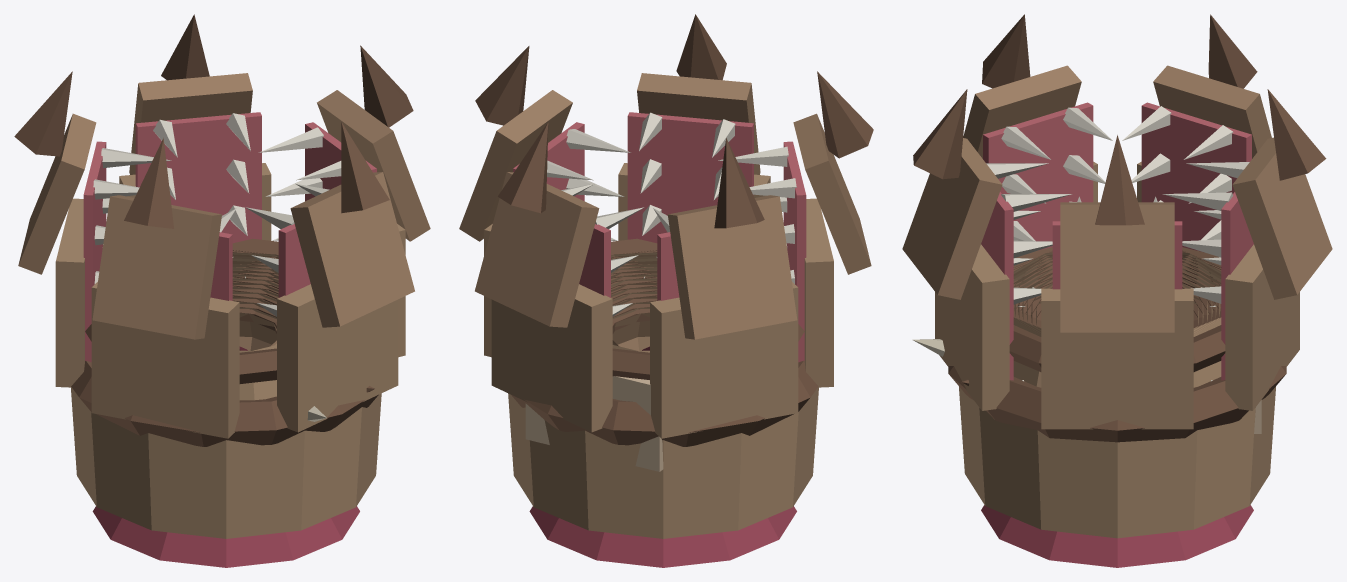
File: verme_gigante.glb
3 views of the same model, side by side, from view 1: azimuth 30°, elevation 25°; view 2: azimuth 150°, elevation 25°; view 3: azimuth 270°, elevation 25° (orthographic). The views are drawn at different scales.
Visible parts, largest first — view 1: head, petal_2, petal_1, petal_4, petal_3, petal_0, seg_00, seg_17; view 2: head, petal_3, petal_4, petal_1, petal_2, petal_0, seg_00, seg_17; view 3: head, petal_0, petal_4, petal_1, petal_2, petal_3, seg_00.
Boxes of the visible parts, box(x1,y1,x2,y2) form: head: box(71, 346, 381, 567); petal_2: box(91, 138, 239, 438); petal_1: box(245, 122, 414, 432); petal_4: box(119, 14, 271, 278); petal_3: box(14, 71, 171, 387); petal_0: box(258, 45, 430, 357); seg_00: box(85, 238, 374, 421); seg_17: box(239, 309, 276, 350); head: box(508, 346, 818, 567); petal_3: box(650, 138, 798, 438); petal_4: box(475, 122, 644, 432); petal_1: box(618, 14, 770, 278); petal_2: box(718, 71, 873, 387); petal_0: box(459, 46, 630, 357); seg_00: box(525, 238, 804, 471); seg_17: box(612, 309, 649, 350); head: box(948, 366, 1286, 567); petal_0: box(1041, 135, 1193, 429); petal_4: box(1162, 89, 1332, 410); petal_1: box(902, 89, 1072, 410); petal_2: box(963, 14, 1112, 288); petal_3: box(1122, 14, 1271, 287); seg_00: box(912, 247, 1261, 433).
Bounding box in the file's own units: 4.96 × 5.8 × 5.1.
